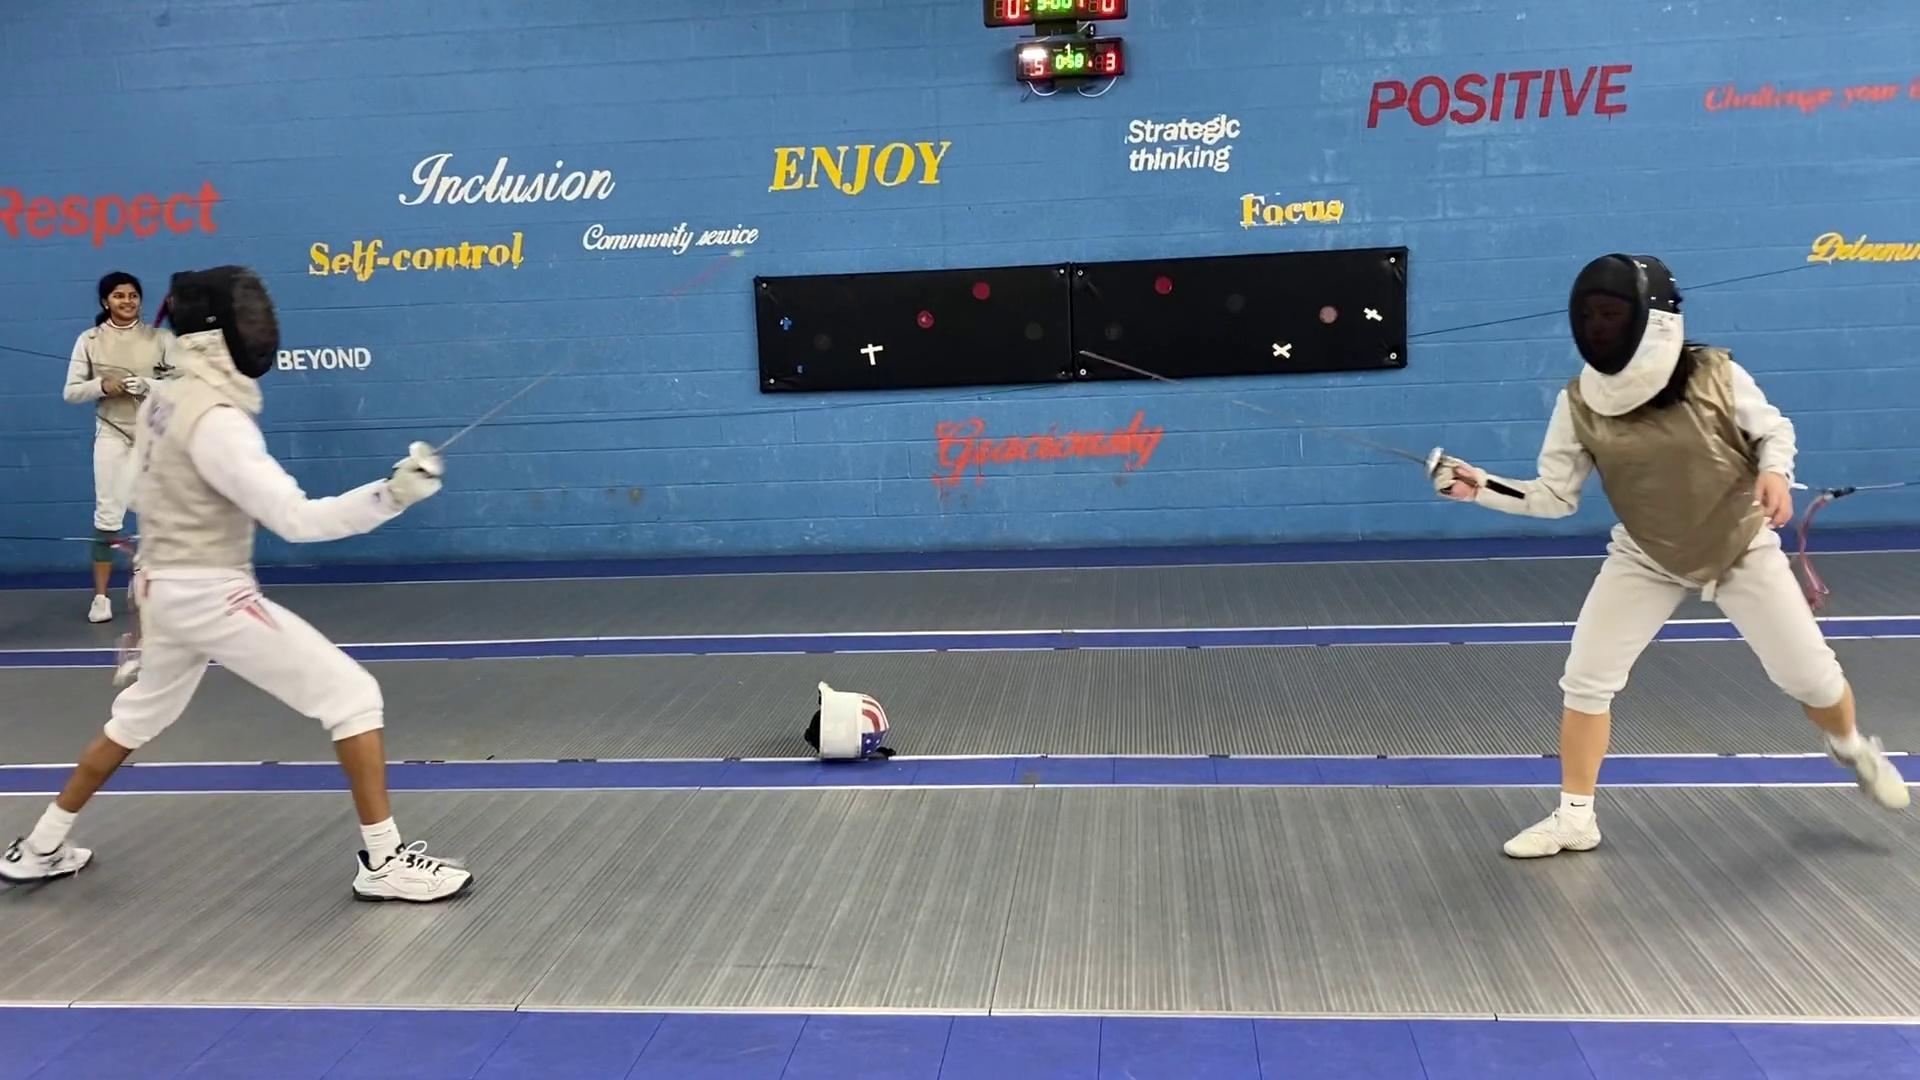blade-guard: (406, 434, 450, 483), (1422, 443, 1447, 487)
blade-tip: (665, 247, 748, 301), (1077, 347, 1166, 381)
fencing-blade: (388, 248, 748, 487), (1073, 345, 1486, 510)
